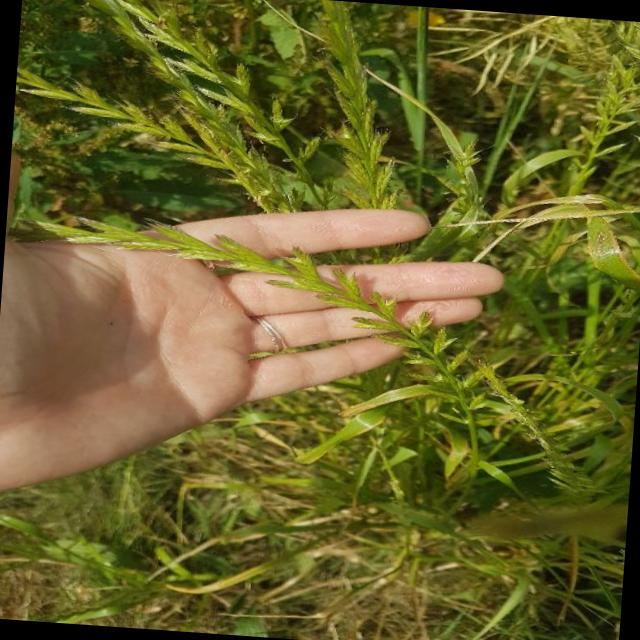Lolium: (22, 218, 569, 441), (79, 0, 335, 168), (21, 72, 340, 195), (318, 5, 414, 260), (571, 53, 640, 173)
